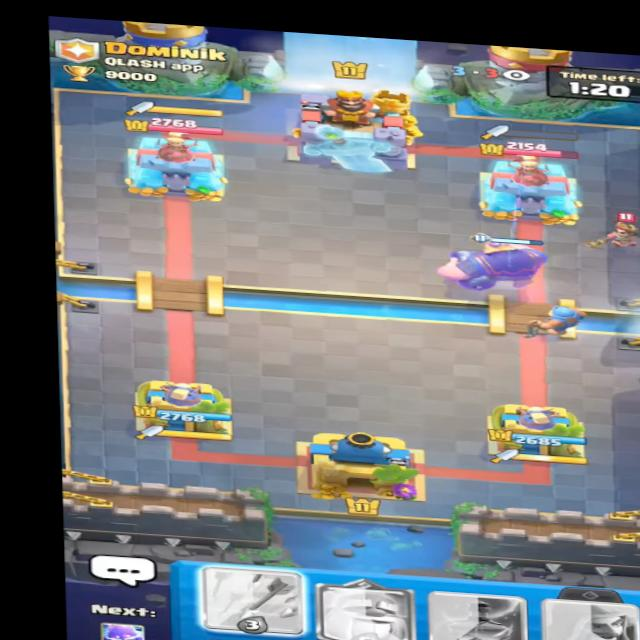little-prince: (583, 209, 640, 259)
